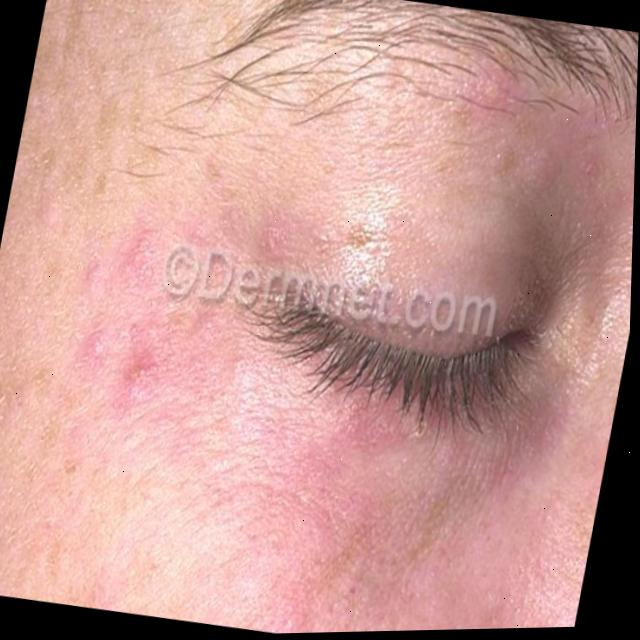Rosacea: (66, 247, 553, 638)
